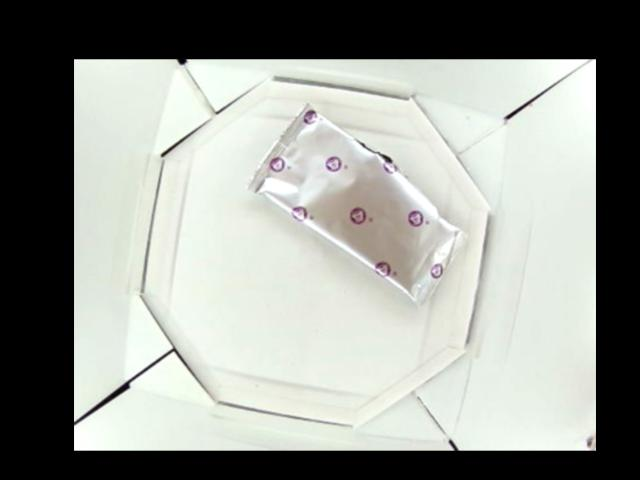Medicine: (246, 99, 471, 307)
